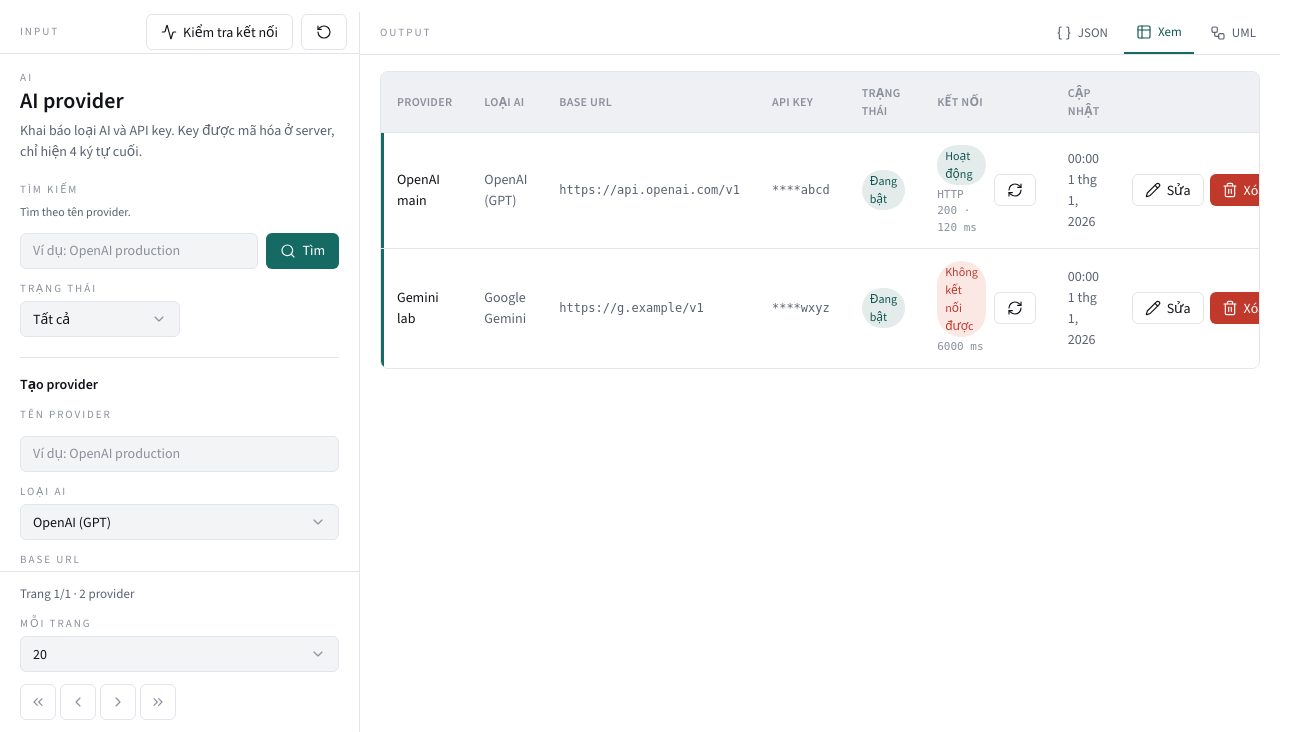
it: AiProvidersPage connection status › re-tests a single provider from its row
The width and height of the screenshot is (1292, 732).
Expected: the text "Không kết nối được" is shown, [937,261,986,337]
Click the button named "Kiểm tra lại Gemini lab": (1015, 308) [994,292,1036,324]
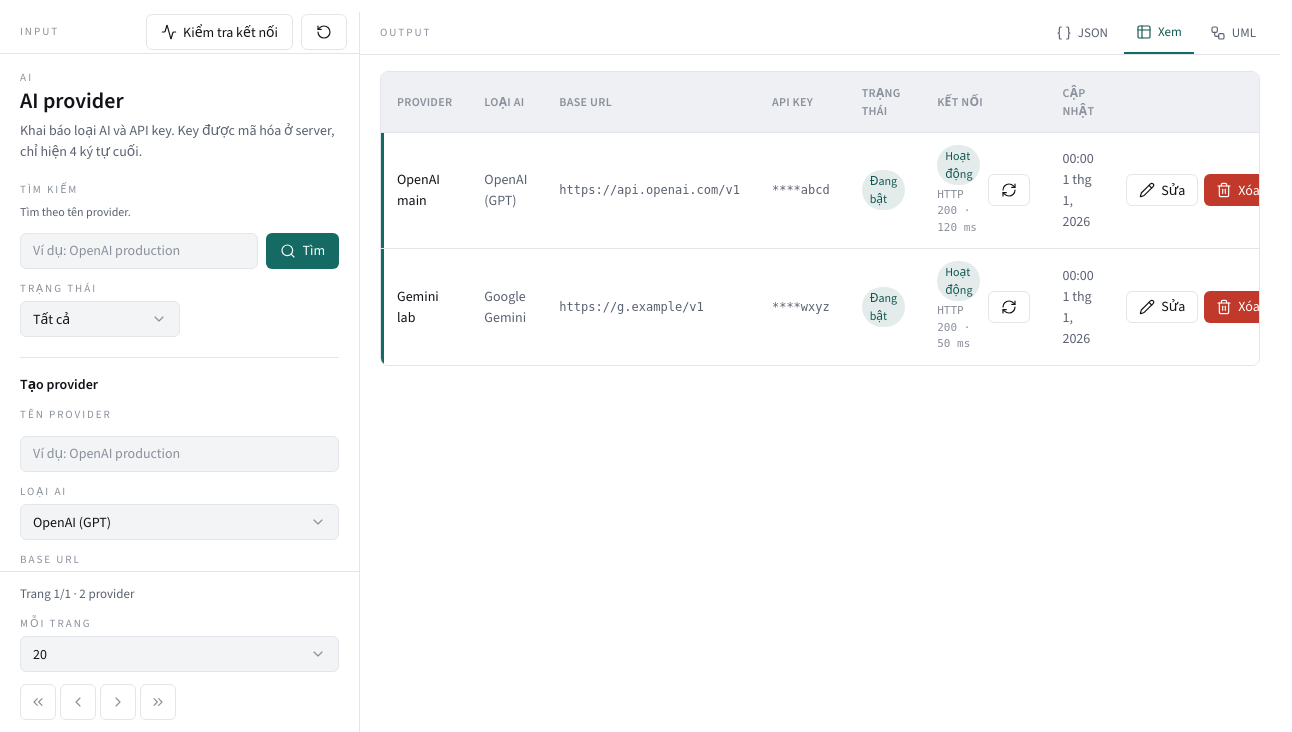
Now the text "Không kết nối được" is gone
